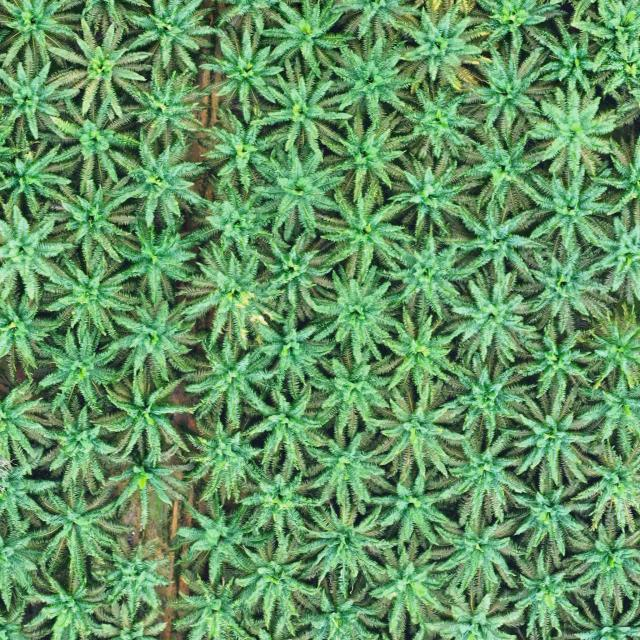Tree: (15, 475, 137, 581), (98, 133, 216, 237), (48, 17, 154, 130), (88, 290, 208, 388), (496, 384, 604, 492), (221, 529, 326, 638), (42, 95, 150, 198), (420, 506, 534, 603), (352, 530, 456, 636), (366, 381, 469, 488), (426, 429, 533, 530), (305, 258, 405, 366), (242, 144, 346, 247), (179, 334, 286, 434), (162, 492, 278, 584), (491, 547, 605, 640), (524, 82, 624, 185), (448, 44, 556, 139), (177, 237, 266, 352), (315, 175, 408, 284), (431, 350, 540, 443), (517, 165, 622, 261), (378, 226, 482, 320), (238, 379, 338, 476), (438, 266, 530, 371), (98, 434, 196, 532), (446, 192, 552, 282), (38, 177, 137, 273), (196, 97, 291, 195), (163, 412, 262, 506), (324, 32, 421, 127), (98, 370, 196, 464), (376, 150, 478, 240), (452, 120, 544, 218), (302, 353, 405, 439), (100, 219, 204, 304), (307, 113, 408, 200), (0, 198, 81, 306), (247, 309, 343, 400), (294, 497, 392, 586), (39, 326, 132, 419), (258, 70, 350, 164), (30, 398, 118, 496), (115, 0, 221, 81), (524, 244, 618, 334), (254, 224, 338, 324), (394, 3, 486, 94), (558, 514, 640, 615), (84, 532, 178, 620), (508, 316, 600, 404), (188, 180, 286, 262), (362, 468, 458, 550), (393, 79, 482, 167), (43, 252, 131, 340), (508, 472, 597, 557), (305, 424, 391, 510), (199, 21, 285, 106), (369, 307, 458, 389), (569, 434, 640, 536), (287, 572, 392, 640), (239, 456, 320, 544), (264, 0, 352, 79), (0, 276, 64, 384), (128, 66, 212, 148), (0, 58, 78, 146), (0, 127, 73, 220), (24, 559, 106, 640), (574, 297, 640, 394), (165, 564, 242, 640), (0, 1, 84, 70), (583, 207, 640, 306), (534, 20, 604, 98), (572, 378, 640, 456)
